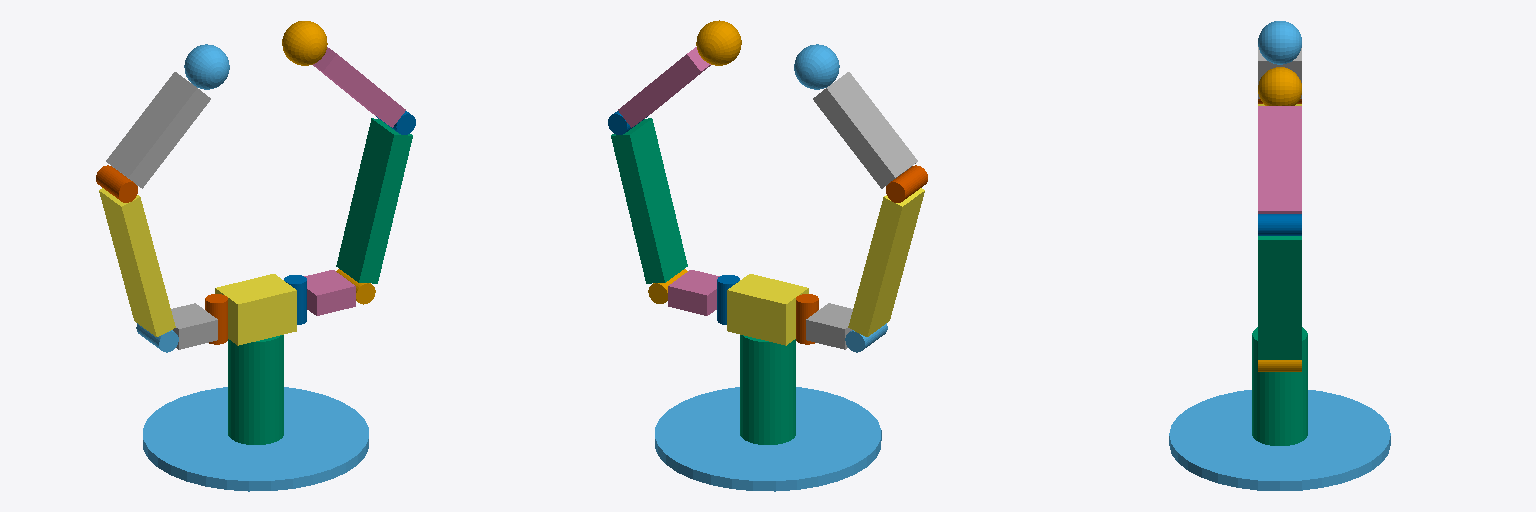
The robot description file, URDF, robot "gripper_v1":
<?xml version="1.0"?>
<robot name="gripper_v1">

  <!-- ################################################################################################# -->
  <!-- Map -->
  <link name="map"/>
  
  <!-- Base Link -->
  <link name="base_link">
    <visual>
      <geometry>
        <cylinder radius="0.5" length="0.05"/>
      </geometry>
      <material name="White"/>
    </visual>
    <collision>
      <geometry>
        <cylinder radius="0.5" length="0.05"/>
      </geometry>
      <material name="White"/>
    </collision>
    <inertial>
      <mass value="1.0"/>
      <origin xyz="0 0 0"/>
      <inertia ixx="0.01" ixy="0" ixz="0" iyy="0.01" iyz="0" izz="0.01"/>
    </inertial>
  </link>

  <!-- Joint 0 -->
  <joint name="joint_0" type="fixed">
    <parent link="map"/>
    <child link="base_link"/>
    <origin xyz="0 0 0.025" rpy="0 0 0"/>
  </joint>

  <!-- ################################################################################################# -->
  <!-- Link 1-->
  <link name="link_1">
    <visual>
      <geometry>
        <cylinder radius="0.125" length="0.5"/>
      </geometry>
      <material name="Blue"/>
    </visual>
    <collision>
      <geometry>
        <cylinder radius="0.125" length="0.5"/>
      </geometry>
      <material name="Blue"/>
    </collision>
    <inertial>
      <mass value="1.0"/>
      <origin xyz="0 0 0"/>
      <inertia ixx="0.01" ixy="0" ixz="0" iyy="0.01" iyz="0" izz="0.01"/>
    </inertial>
  </link>

  <!-- Joint 1-->
  <joint name="joint_1" type="fixed">
    <parent link="base_link"/>
    <child link="link_1"/>
    <origin xyz="0 0 0.275" rpy="0 0 0"/>
  </joint>

  <!-- ################################################################################################# -->
  <!-- Link 2-->
  <link name="link_2">
    <visual>
      <geometry>
        <box size="0.3 0.2 0.2"/>
      </geometry>
      <material name="Red"/>
    </visual>
    <collision>
      <geometry>
        <box size="0.3 0.2 0.2"/>
      </geometry>
      <material name="Blue"/>
    </collision>
    <inertial>
      <mass value="1.0"/>
      <origin xyz="0 0 0"/>
      <inertia ixx="0.01" ixy="0" ixz="0" iyy="0.01" iyz="0" izz="0.01"/>
    </inertial>
  </link>

  <!-- Joint 2 -->  
  <joint name="joint_2" type="revolute">
    <parent link="link_1"/>
    <child link="link_2"/>
    <origin xyz="0 0 0.35" rpy="0 0 0"/>
    <axis xyz="0 0 1"/>
    <limit effort="10" lower="-1.57" upper="1.57" velocity="5"/>
  </joint>

  <!-- ################################################################################################# -->
  <!-- Link 3-->
  <link name="link_3">
    <visual>
      <geometry>
        <cylinder radius="0.05" length="0.2"/>
      </geometry>
      <material name="Red"/>
    </visual>
    <collision>
      <geometry>
        <cylinder radius="0.05" length="0.2"/>
      </geometry>
      <material name="Blue"/>
    </collision>
    <inertial>
      <mass value="1.0"/>
      <origin xyz="0 0 0"/>
      <inertia ixx="0.01" ixy="0" ixz="0" iyy="0.01" iyz="0" izz="0.01"/>
    </inertial>
  </link>

  <!-- Joint 3 -->  
  <joint name="joint_3" type="revolute">
    <parent link="link_2"/>
    <child link="link_3"/>
    <origin xyz="0.2 0 0" rpy="0 0 0"/>
    <axis xyz="0 0 1"/>
    <limit effort="10" lower="-1.57" upper="1.57" velocity="5"/>
  </joint>

  <!-- Link 4-->
  <link name="link_4">
    <visual>
      <geometry>
        <cylinder radius="0.05" length="0.2"/>
      </geometry>
      <material name="Red"/>
    </visual>
    <collision>
      <geometry>
        <cylinder radius="0.05" length="0.2"/>
      </geometry>
      <material name="Blue"/>
    </collision>
    <inertial>
      <mass value="1.0"/>
      <origin xyz="0 0 0"/>
      <inertia ixx="0.01" ixy="0" ixz="0" iyy="0.01" iyz="0" izz="0.01"/>
    </inertial>
  </link>

  <!-- Joint 4 -->  
  <joint name="joint_4" type="revolute">
    <parent link="link_2"/>
    <child link="link_4"/>
    <origin xyz="-0.2 0 0" rpy="0 0 0"/>
    <axis xyz="0 0 1"/>
    <limit effort="10" lower="-1.57" upper="1.57" velocity="5"/>
  </joint>

  <!-- ################################################################################################# -->
  <!-- Link 5-->
  <link name="link_5">
    <visual>
      <geometry>
        <box size="0.2 0.2 0.1"/>
      </geometry>
      <material name="Red"/>
    </visual>
    <collision>
      <geometry>
        <box size="0.2 0.2 0.1"/>
      </geometry>
      <material name="Blue"/>
    </collision>
    <inertial>
      <mass value="1.0"/>
      <origin xyz="0 0 0"/>
      <inertia ixx="0.01" ixy="0" ixz="0" iyy="0.01" iyz="0" izz="0.01"/>
    </inertial>
  </link>

  <!-- Joint 5 -->  
  <joint name="joint_5" type="fixed">
    <parent link="link_3"/>
    <child link="link_5"/>
    <origin xyz="0.15 0 0" rpy="0 0 0"/>
  </joint>

  <!-- Link 6-->
  <link name="link_6">
    <visual>
      <geometry>
        <box size="0.2 0.2 0.1"/>
      </geometry>
      <material name="Red"/>
    </visual>
    <collision>
      <geometry>
        <box size="0.2 0.2 0.1"/>
      </geometry>
      <material name="Blue"/>
    </collision>
    <inertial>
      <mass value="1.0"/>
      <origin xyz="0 0 0"/>
      <inertia ixx="0.01" ixy="0" ixz="0" iyy="0.01" iyz="0" izz="0.01"/>
    </inertial>
  </link>

  <!-- Joint 6 -->  
  <joint name="joint_6" type="fixed">
    <parent link="link_4"/>
    <child link="link_6"/>
    <origin xyz="-0.15 0 0" rpy="0 0 0"/>
  </joint>


  <!-- ################################################################################################# -->
  <!-- Link 7-->
  <link name="link_7">
    <visual>
      <geometry>
        <cylinder radius="0.05" length="0.2"/>
      </geometry>
      <material name="Red"/>
    </visual>
    <collision>
      <geometry>
        <cylinder radius="0.05" length="0.2"/>
      </geometry>
      <material name="Blue"/>
    </collision>
    <inertial>
      <mass value="1.0"/>
      <origin xyz="0 0 0"/>
      <inertia ixx="0.01" ixy="0" ixz="0" iyy="0.01" iyz="0" izz="0.01"/>
    </inertial>
  </link>

  <!-- Joint 7 -->  
  <joint name="joint_7" type="revolute">
    <parent link="link_5"/>
    <child link="link_7"/>
    <!-- <origin xyz="0.15 0 0" rpy="1.57 ${2*pi*(15/360)} 0"/> -->
    <origin xyz="0.15 0 0" rpy="1.57 0.26 0"/>
    <axis xyz="0 0 1"/>
    <limit effort="10" lower="-1.57" upper="1.57" velocity="5"/>
  </joint>

  <!-- Link 8-->
  <link name="link_8">
    <visual>
      <geometry>
        <cylinder radius="0.05" length="0.2"/>
      </geometry>
      <material name="Red"/>
    </visual>
    <collision>
      <geometry>
        <cylinder radius="0.05" length="0.2"/>
      </geometry>
      <material name="Blue"/>
    </collision>
    <inertial>
      <mass value="1.0"/>
      <origin xyz="0 0 0"/>
      <inertia ixx="0.01" ixy="0" ixz="0" iyy="0.01" iyz="0" izz="0.01"/>
    </inertial>
  </link>

  <!-- Joint 8 -->  
  <joint name="joint_8" type="revolute">
    <parent link="link_6"/>
    <child link="link_8"/>
    <!-- <origin xyz="-0.15 0 0" rpy="1.57 ${-2*pi*(15/360)} 0"/> -->
    <origin xyz="-0.15 0 0" rpy="1.57 -0.26 0"/>
    <axis xyz="0 0 1"/>
    <limit effort="10" lower="-1.57" upper="1.57" velocity="5"/>
  </joint>

  <!-- ################################################################################################# -->
  <!-- Link 9-->
  <link name="link_9">
    <visual>
      <geometry>
        <box size="0.1 0.7 0.2"/>
      </geometry>
      <material name="Red"/>
    </visual>
    <collision>
      <geometry>
        <box size="0.1 0.7 0.2"/>
      </geometry>
      <material name="Blue"/>
    </collision>
    <inertial>
      <mass value="1.0"/>
      <origin xyz="0 0 0"/>
      <inertia ixx="0.01" ixy="0" ixz="0" iyy="0.01" iyz="0" izz="0.01"/>
    </inertial>
  </link>

  <!-- Joint 9 -->  
  <joint name="joint_9" type="fixed">
    <parent link="link_7"/>
    <child link="link_9"/>
    <origin xyz="0 0.4 0" rpy="0 0 0"/>
  </joint>

  <!-- Link 10-->
  <link name="link_10">
    <visual>
      <geometry>
        <box size="0.1 0.7 0.2"/>
      </geometry>
      <material name="Red"/>
    </visual>
    <collision>
      <geometry>
        <box size="0.1 0.7 0.2"/>
      </geometry>
      <material name="Blue"/>
    </collision>
    <inertial>
      <mass value="1.0"/>
      <origin xyz="0 0 0"/>
      <inertia ixx="0.01" ixy="0" ixz="0" iyy="0.01" iyz="0" izz="0.01"/>
    </inertial>
  </link>

  <!-- Joint 10 -->  
  <joint name="joint_10" type="fixed">
    <parent link="link_8"/>
    <child link="link_10"/>
    <origin xyz="0 0.4 0" rpy="0 0 0"/>
  </joint>

  <!-- ################################################################################################# -->
  <!-- Link 11-->
  <link name="link_11">
    <visual>
      <geometry>
        <cylinder radius="0.05" length="0.2"/>
      </geometry>
      <material name="Red"/>
    </visual>
    <collision>
      <geometry>
        <cylinder radius="0.05" length="0.2"/>
      </geometry>
      <material name="Blue"/>
    </collision>
    <inertial>
      <mass value="1.0"/>
      <origin xyz="0 0 0"/>
      <inertia ixx="0.01" ixy="0" ixz="0" iyy="0.01" iyz="0" izz="0.01"/>
    </inertial>
  </link>

  <!-- Joint 11 -->  
  <joint name="joint_11" type="revolute">
    <parent link="link_9"/>
    <child link="link_11"/>
    <!-- <origin xyz="0 0.4 0" rpy="0 0 ${2*pi*(60/360)}"/> -->
    <origin xyz="0 0.4 0" rpy="0 0 1.04"/>
    <axis xyz="0 0 1"/>
    <limit effort="10" lower="-1.57" upper="1.57" velocity="5"/>
  </joint>

  <!-- Link 12-->
  <link name="link_12">
    <visual>
      <geometry>
        <cylinder radius="0.05" length="0.2"/>
      </geometry>
      <material name="Red"/>
    </visual>
    <collision>
      <geometry>
        <cylinder radius="0.05" length="0.2"/>
      </geometry>
      <material name="Blue"/>
    </collision>
    <inertial>
      <mass value="1.0"/>
      <origin xyz="0 0 0"/>
      <inertia ixx="0.01" ixy="0" ixz="0" iyy="0.01" iyz="0" izz="0.01"/>
    </inertial>
  </link>

  <!-- Joint 12 -->  
  <joint name="joint_12" type="revolute">
    <parent link="link_10"/>
    <child link="link_12"/>
    <!-- <origin xyz="0 0.4 0" rpy="0 0 ${-2*pi*(60/360)}"/> -->
    <origin xyz="0 0.4 0" rpy="0 0 -1.04"/>
    <axis xyz="0 0 1"/>
    <limit effort="10" lower="-1.57" upper="1.57" velocity="5"/>
  </joint>

  <!-- ################################################################################################# -->
  <!-- Link 13-->
  <link name="link_13">
    <visual>
      <geometry>
        <box size="0.1 0.5 0.2"/>
      </geometry>
      <material name="Red"/>
    </visual>
    <collision>
      <geometry>
        <box size="0.1 0.5 0.2"/>
      </geometry>
      <material name="Blue"/>
    </collision>
    <inertial>
      <mass value="1.0"/>
      <origin xyz="0 0 0"/>
      <inertia ixx="0.01" ixy="0" ixz="0" iyy="0.01" iyz="0" izz="0.01"/>
    </inertial>
  </link>

  <!-- Joint 13 -->  
  <joint name="joint_13" type="fixed">
    <parent link="link_11"/>
    <child link="link_13"/>
    <origin xyz="0 0.3 0" rpy="0 0 0"/>
  </joint>

  <!-- Link 14-->
  <link name="link_14">
    <visual>
      <geometry>
        <box size="0.1 0.5 0.2"/>
      </geometry>
      <material name="Red"/>
    </visual>
    <collision>
      <geometry>
        <box size="0.1 0.5 0.2"/>
      </geometry>
      <material name="Blue"/>
    </collision>
    <inertial>
      <mass value="1.0"/>
      <origin xyz="0 0 0"/>
      <inertia ixx="0.01" ixy="0" ixz="0" iyy="0.01" iyz="0" izz="0.01"/>
    </inertial>
  </link>

  <!-- Joint 14 -->  
  <joint name="joint_14" type="fixed">
    <parent link="link_12"/>
    <child link="link_14"/>
    <origin xyz="0 0.3 0" rpy="0 0 0"/>
  </joint>

  <!-- ################################################################################################# -->
  <!-- Link 15-->
  <link name="link_15">
    <visual>
      <geometry>
        <sphere radius="0.1"/>
      </geometry>
      <material name="Red"/>
    </visual>
    <collision>
      <geometry>
        <sphere radius="0.1"/>
      </geometry>
      <material name="Blue"/>
    </collision>
    <inertial>
      <mass value="1.0"/>
      <origin xyz="0 0 0"/>
      <inertia ixx="0.01" ixy="0" ixz="0" iyy="0.01" iyz="0" izz="0.01"/>
    </inertial>
  </link>

  <!-- Joint 15 -->  
  <joint name="joint_15" type="fixed">
    <parent link="link_13"/>
    <child link="link_15"/>
    <origin xyz="0 0.35 0" rpy="0 0 0"/>
  </joint>

  <!-- Link 16-->
  <link name="link_16">
    <visual>
      <geometry>
        <sphere radius="0.1"/>
      </geometry>
      <material name="Red"/>
    </visual>
    <collision>
      <geometry>
        <sphere radius="0.1"/>
      </geometry>
      <material name="Blue"/>
    </collision>
    <inertial>
      <mass value="1.0"/>
      <origin xyz="0 0 0"/>
      <inertia ixx="0.01" ixy="0" ixz="0" iyy="0.01" iyz="0" izz="0.01"/>
    </inertial>
  </link>

  <!-- Joint 16 -->  
  <joint name="joint_16" type="fixed">
    <parent link="link_14"/>
    <child link="link_16"/>
    <origin xyz="0 0.35 0" rpy="0 0 0"/>
  </joint>

  <!-- ################################################################################################# -->
  <!-- Gazebo plugin for ROS integration -->
  <gazebo>
    <plugin name="gazebo_ros_control" filename="libgazebo_ros_control.so">
      <robotNamespace>/</robotNamespace>
      <controlPeriod>0.001</controlPeriod>
      <robotSimType>gazebo_ros_control/DefaultRobotHWSim</robotSimType>
    </plugin>
  </gazebo>

  <gazebo reference="base_link">
    <material>Gazebo/White</material>
  </gazebo>

  <gazebo reference="link_1">
    <material>Gazebo/Blue</material>
  </gazebo>

  <gazebo reference="link_2">
    <material>Gazebo/Red</material>
  </gazebo>

</robot>

--- Render facts (derived) ---
3 views of the same robot in one strip: view 1: azimuth 30°, elevation 25°; view 2: azimuth 150°, elevation 25°; view 3: azimuth 270°, elevation 25° (orthographic).
Robot: gripper_v1 — 18 links, 17 joints (7 revolute, 10 fixed); root link map; default pose: all joints at 0.
Links seen in each view (by area): view 1: base_link, link_9, link_1, link_10, link_14, link_2, link_13, link_5, link_15, link_16, link_6, link_12 (+3 smaller); view 2: base_link, link_9, link_1, link_10, link_14, link_2, link_13, link_5, link_15, link_16, link_6, link_12 (+3 smaller); view 3: base_link, link_9, link_13, link_1, link_16, link_15, link_11, link_7, link_14.
Link boxes in pixels (x1,y1,x2,y2): base_link: (143, 387, 368, 491); link_9: (336, 118, 412, 283); link_1: (228, 335, 283, 444); link_10: (99, 188, 175, 336); link_14: (106, 72, 210, 188); link_2: (215, 274, 296, 345); link_13: (313, 47, 405, 127); link_5: (304, 270, 355, 315); link_15: (282, 21, 327, 65); link_16: (184, 44, 229, 89); link_6: (171, 303, 217, 349); link_12: (96, 165, 137, 202); base_link: (655, 387, 881, 491); link_9: (611, 118, 687, 283); link_1: (740, 335, 795, 444); link_10: (848, 188, 924, 336); link_14: (813, 72, 917, 188); link_2: (727, 274, 808, 345); link_13: (618, 47, 710, 127); link_5: (668, 270, 719, 315); link_15: (696, 20, 741, 65); link_16: (794, 44, 839, 89); link_6: (806, 303, 852, 349); link_12: (886, 165, 927, 202); base_link: (1169, 390, 1390, 490); link_9: (1258, 236, 1301, 359); link_13: (1258, 106, 1301, 213); link_1: (1252, 327, 1307, 445); link_16: (1258, 21, 1301, 64); link_15: (1258, 67, 1301, 105); link_11: (1258, 214, 1301, 235); link_7: (1258, 360, 1301, 371); link_14: (1258, 47, 1301, 98).
Size in the robot's own frame: 1.51 by 1 by 1.99 metres.
Geometry: primitives only (box / cylinder / sphere), no mesh files.